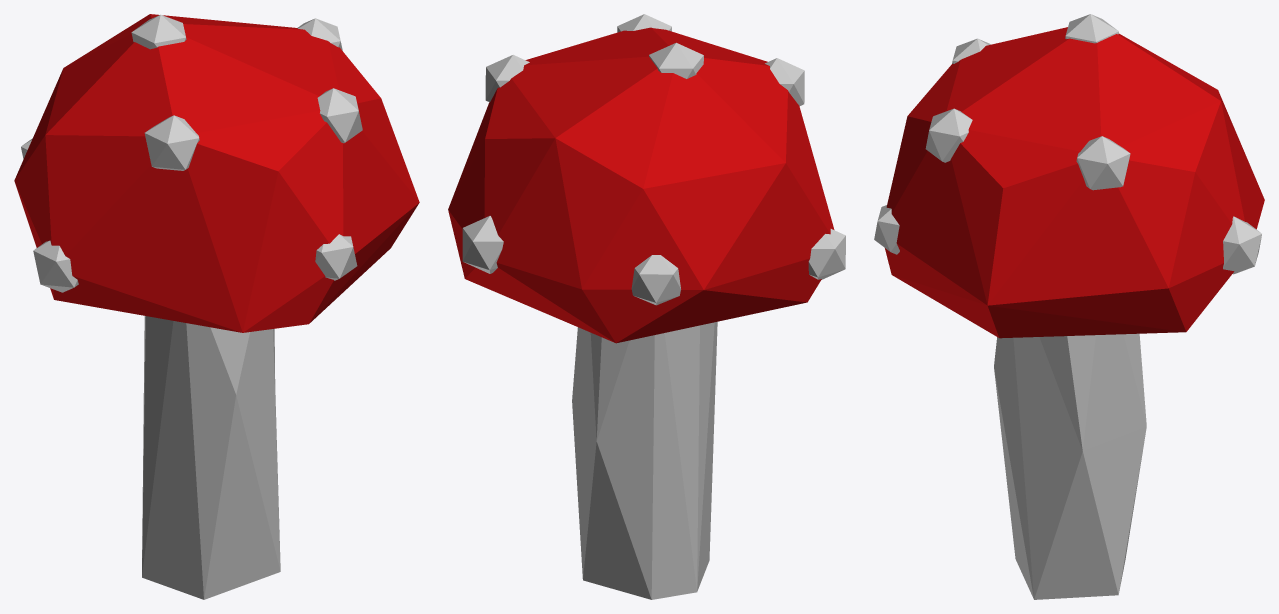
3 views of the same model, side by side, from view 1: azimuth 30°, elevation 25°; view 2: azimuth 150°, elevation 25°; view 3: azimuth 270°, elevation 25° (orthographic). The views are drawn at different scales.
Parts seen in each view (by area): view 1: Mushroom1_Icosphere.005; view 2: Mushroom1_Icosphere.005; view 3: Mushroom1_Icosphere.005.
Part boxes in pixels (x1,y1,x2,y2): Mushroom1_Icosphere.005: [14, 14, 419, 599]; Mushroom1_Icosphere.005: [448, 14, 845, 599]; Mushroom1_Icosphere.005: [874, 14, 1264, 599].
Size of the model in its own units: 0.7969 by 1.21 by 0.7863.
